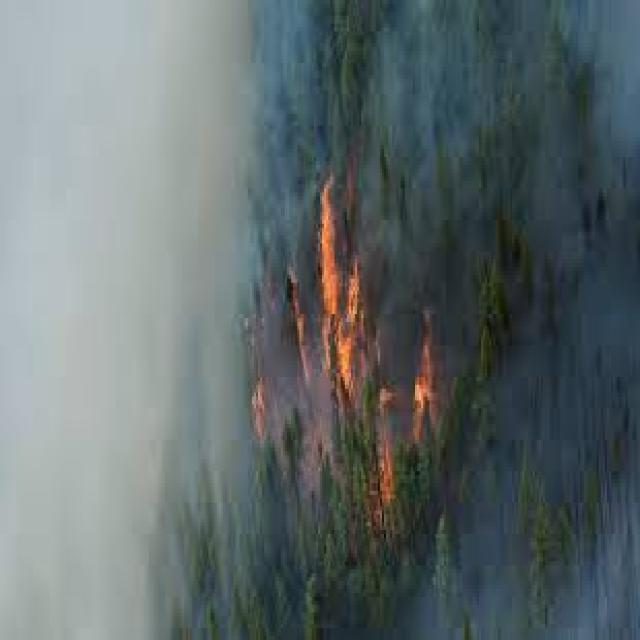Fire: (0, 0, 640, 640), (242, 169, 462, 515)
